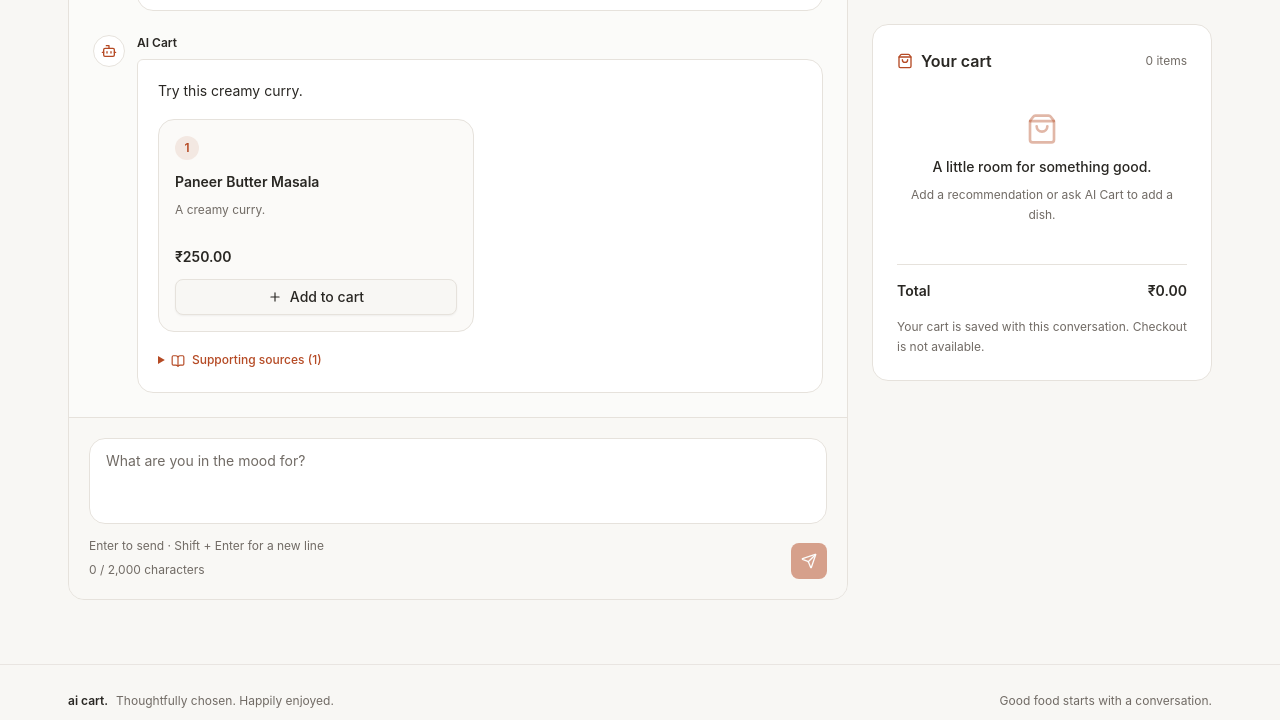
it: stage 2 session experience › restores messages, cards, sources, and the current rather than historical cart
This screenshot has width=1280, height=720.
(page scrolled)
Check: the heading "Paneer Butter Masala" is shown, box [175,172,319,190]
Click the heading "Supporting sources (1)" at coordinates (246, 360), box [171,352,322,368]
(page scrolled)
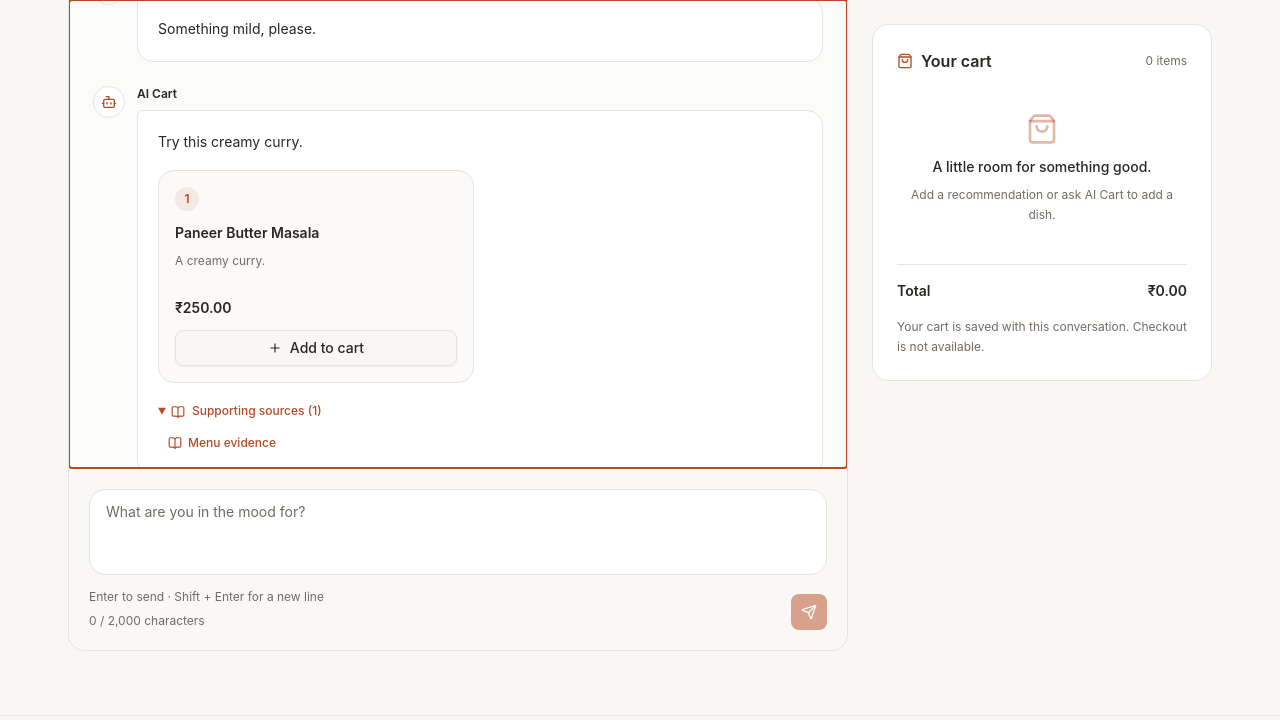
Click the button named "View source: Menu evidence" at coordinates (222, 443), box [158,431,286,455]
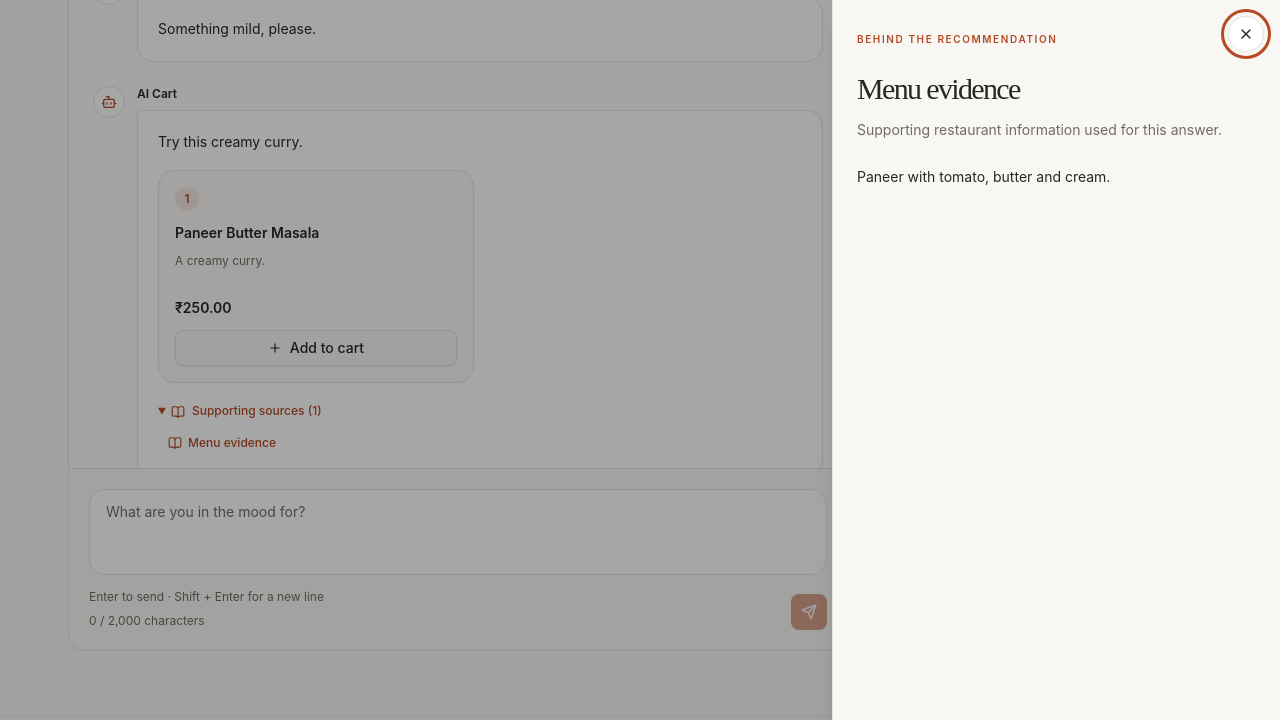
Check: the text "Paneer with tomato, butter and cream." is shown, box [857,168,1110,185]
